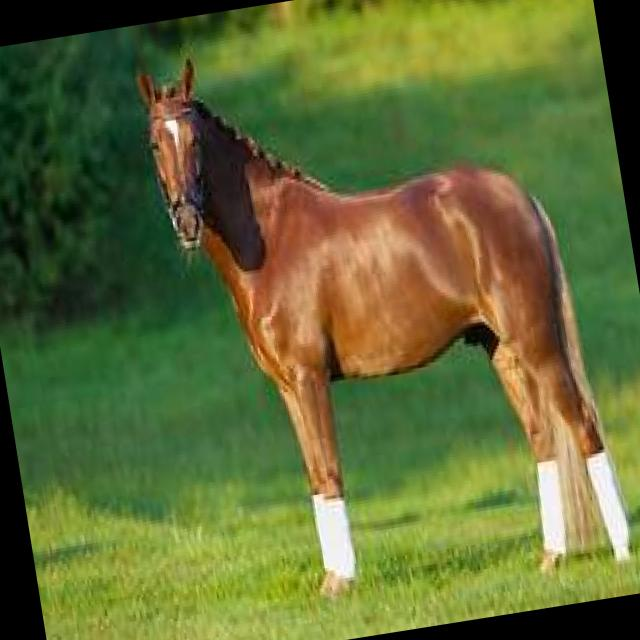horse: (106, 0, 640, 636)
